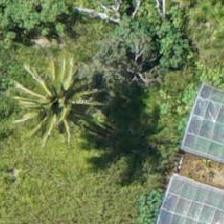coconut_tree: (16, 51, 106, 141)
